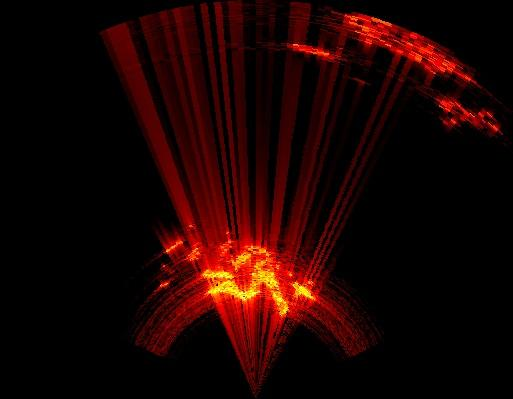shipwreck: (341, 15, 472, 78), (207, 253, 311, 314)
